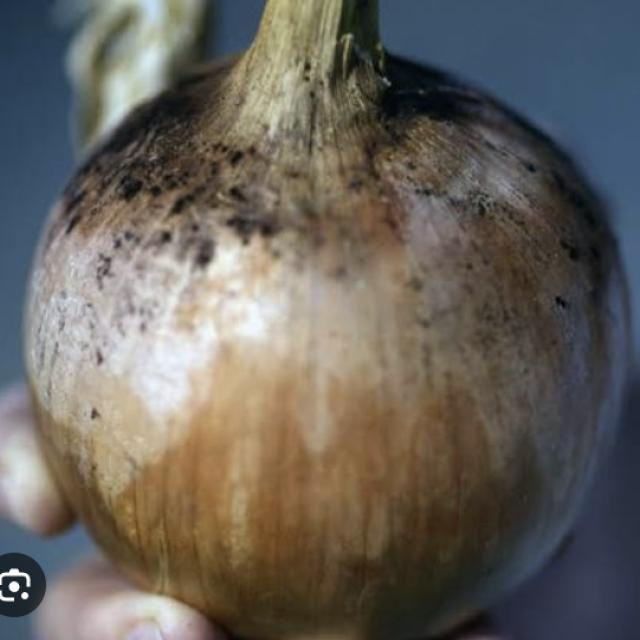mechanical_damage: (26, 0, 631, 639)
